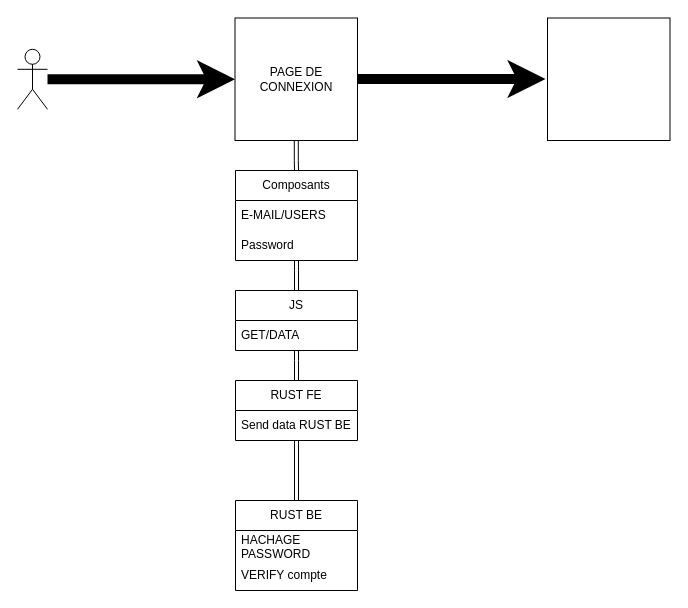
This 688x608 diagram has some shape labels left out. Each missing label, with the centre of its shape:
"ACCUEIL" goes at (608,78).
"Actor" goes at (32,78).
